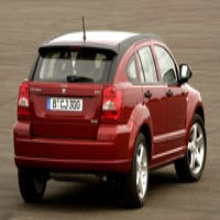no damage: (13, 31, 207, 210)
